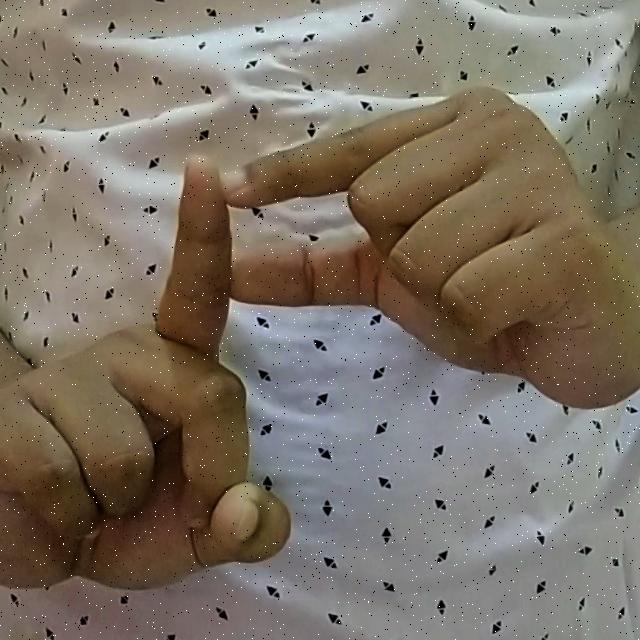P: (18, 70, 610, 600)
